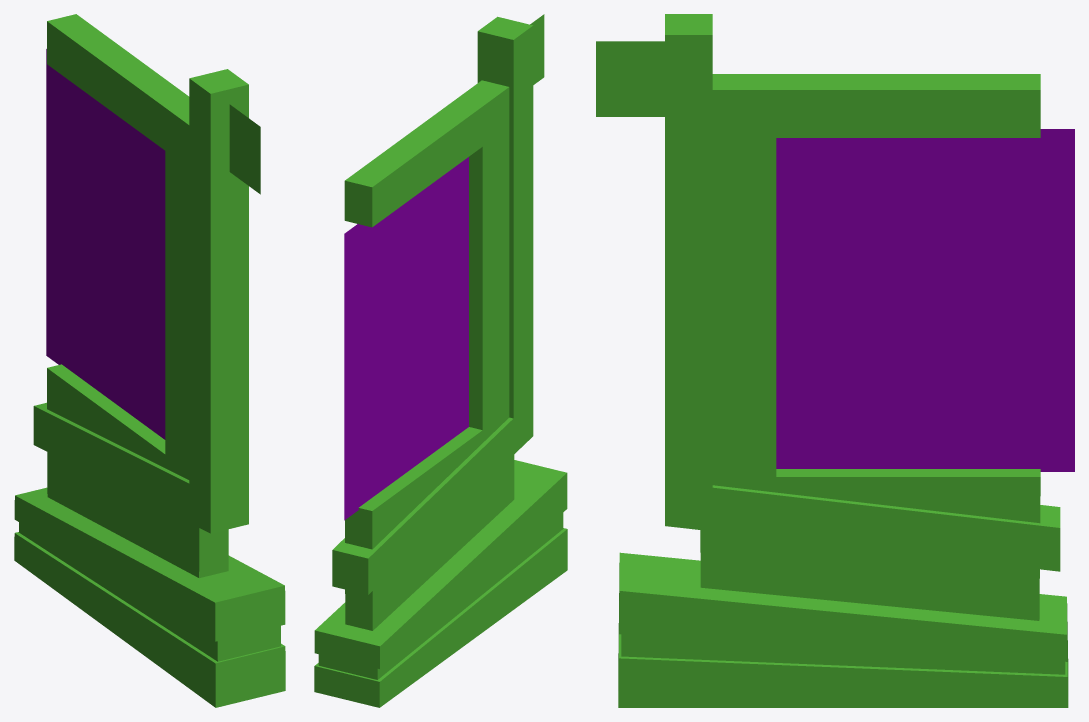
Rendered from SM_MallDirectory.FBX.
3 renders of one model, left to right at view 1: azimuth 30°, elevation 25°; view 2: azimuth 150°, elevation 25°; view 3: azimuth 270°, elevation 25°, orthographic. The views are drawn at different scales.
Parts seen in each view (by area): view 1: Base2_low, Glass2_low; view 2: Base2_low, Glass2_low; view 3: Base2_low, Glass2_low.
Boxes of the visible parts, x1,y1,x2,y2 form: Base2_low: (14, 14, 285, 707); Glass2_low: (46, 49, 165, 439); Base2_low: (314, 14, 567, 707); Glass2_low: (344, 157, 468, 520); Base2_low: (596, 14, 1068, 707); Glass2_low: (776, 129, 1074, 471).
Size of the model in its own units: 0.2928 by 2.38 by 1.55.
